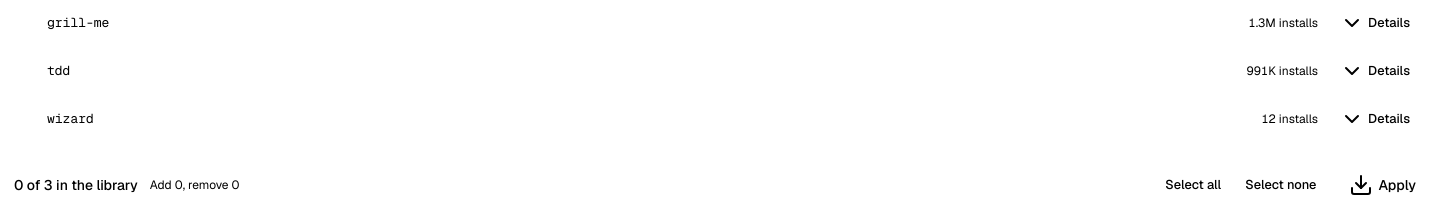
Test: Select all ticks every skill
The image size is (1433, 216).
Click the button "Select all". click: [1193, 185]
box: [1155,171,1231,199]
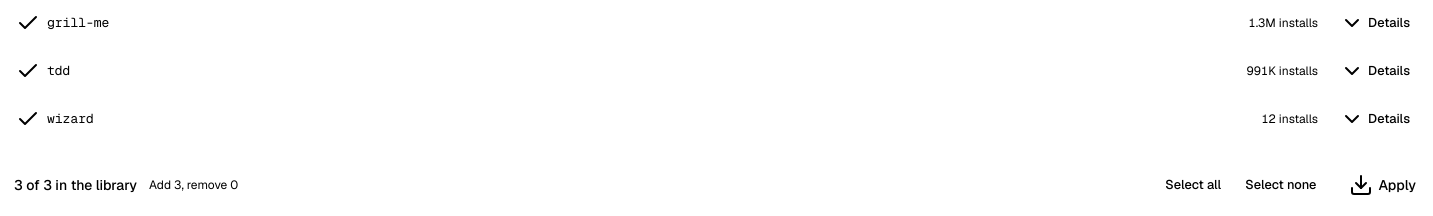
Result: the text "Add 3, remove 0" is shown at [149,177,238,193]
